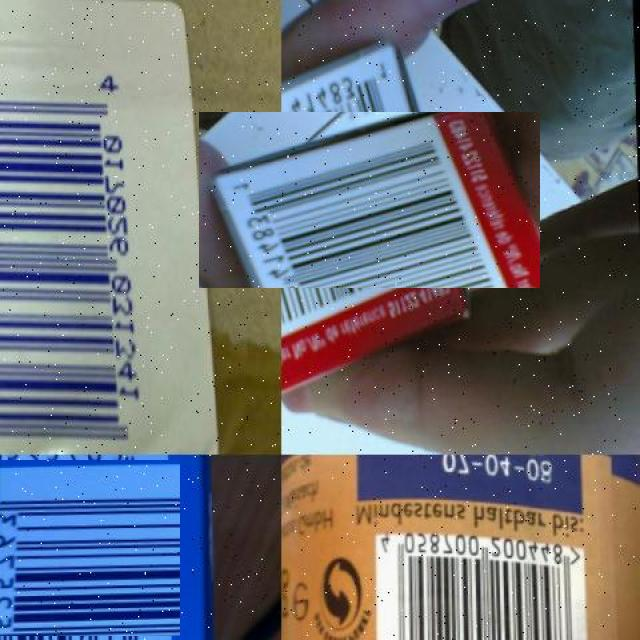Barcode: (240, 71, 499, 329), (0, 45, 156, 455), (0, 458, 178, 638), (373, 532, 591, 640)
